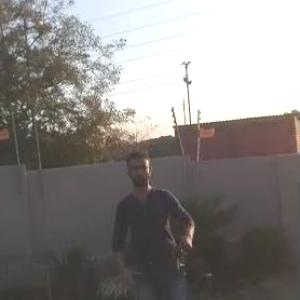follow: (107, 141, 206, 299)
